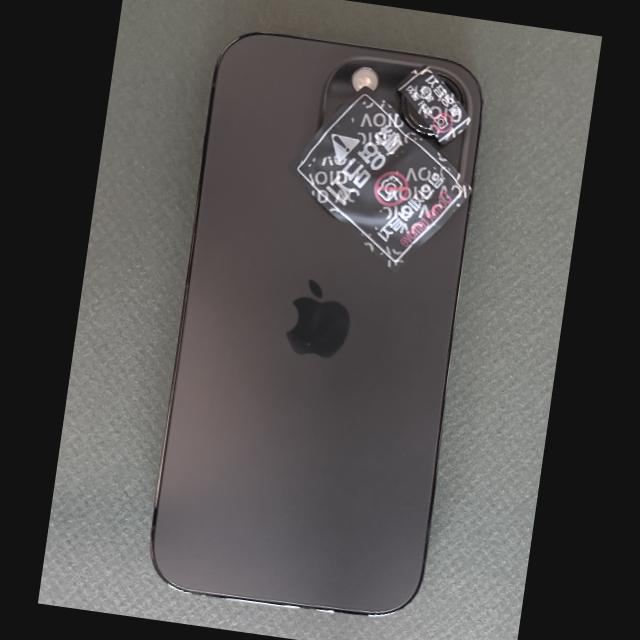lens: (401, 95, 434, 136)
phone: (151, 35, 480, 614)
sticker: (289, 86, 473, 272), (395, 64, 471, 145)
